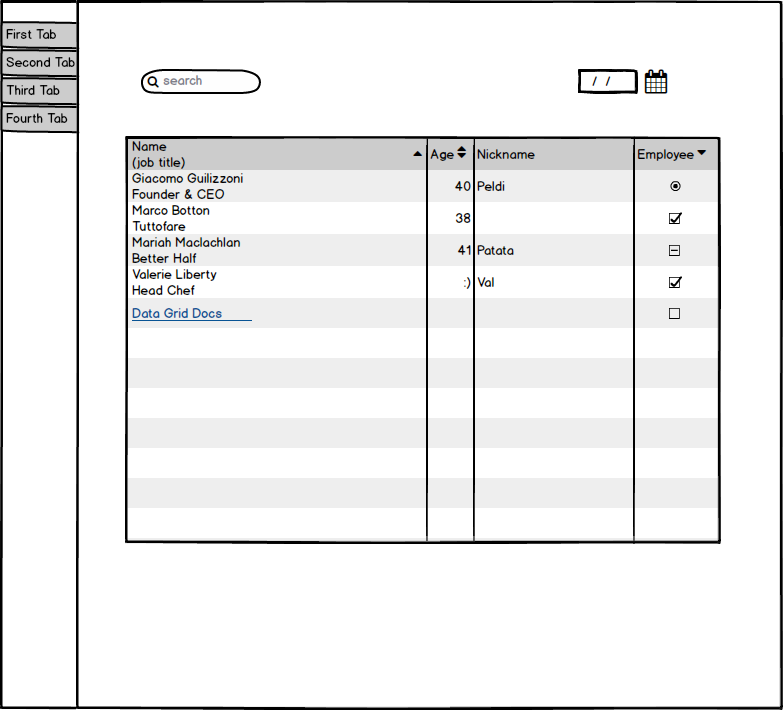date_picker: (572, 64, 676, 100)
search: (133, 66, 268, 98)
sidebar: (3, 16, 87, 140)
table: (116, 129, 726, 552)
